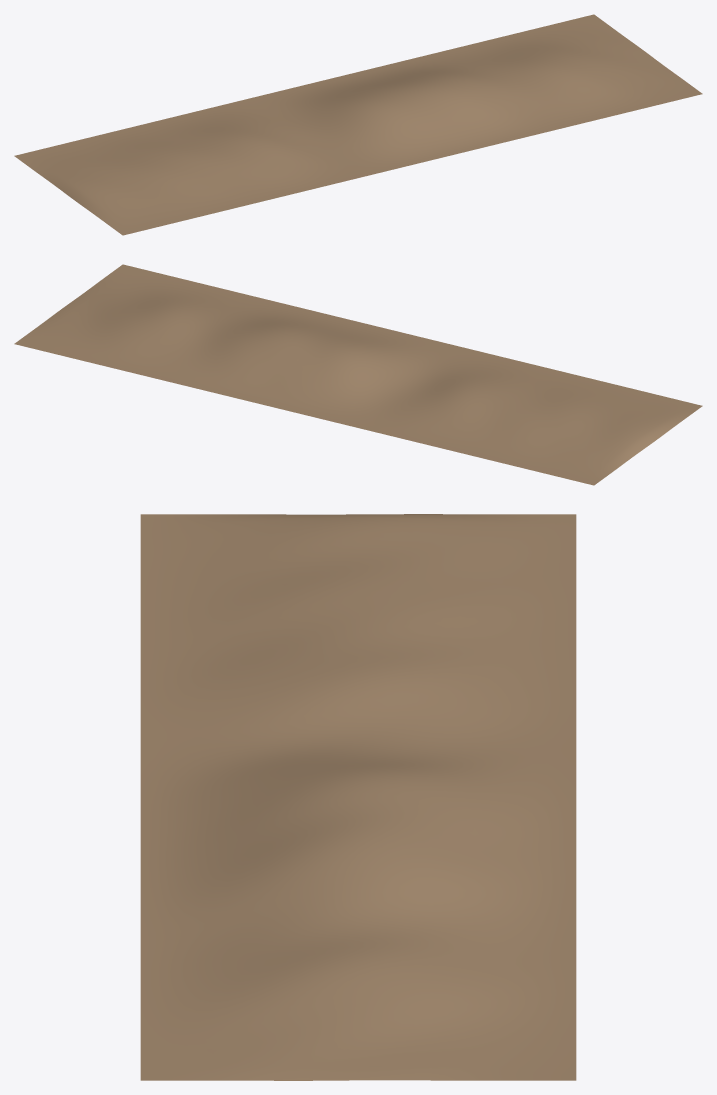
File: SM_ED_Ridge_0.fbx
3 renders of one model, top to bottom at view 1: azimuth 30°, elevation 25°; view 2: azimuth 150°, elevation 25°; view 3: azimuth 270°, elevation 25°, orthographic. The views are drawn at different scales.
Parts seen in each view (by area): view 1: Ridge; view 2: Ridge; view 3: Ridge.
Part boxes in pixels (left/top/right/bottom): Ridge: left=14, top=14, right=702, bottom=235; Ridge: left=14, top=264, right=702, bottom=485; Ridge: left=140, top=514, right=576, bottom=1080.
Bounding box in the file's own units: 40000 × 13000 × 1155.
